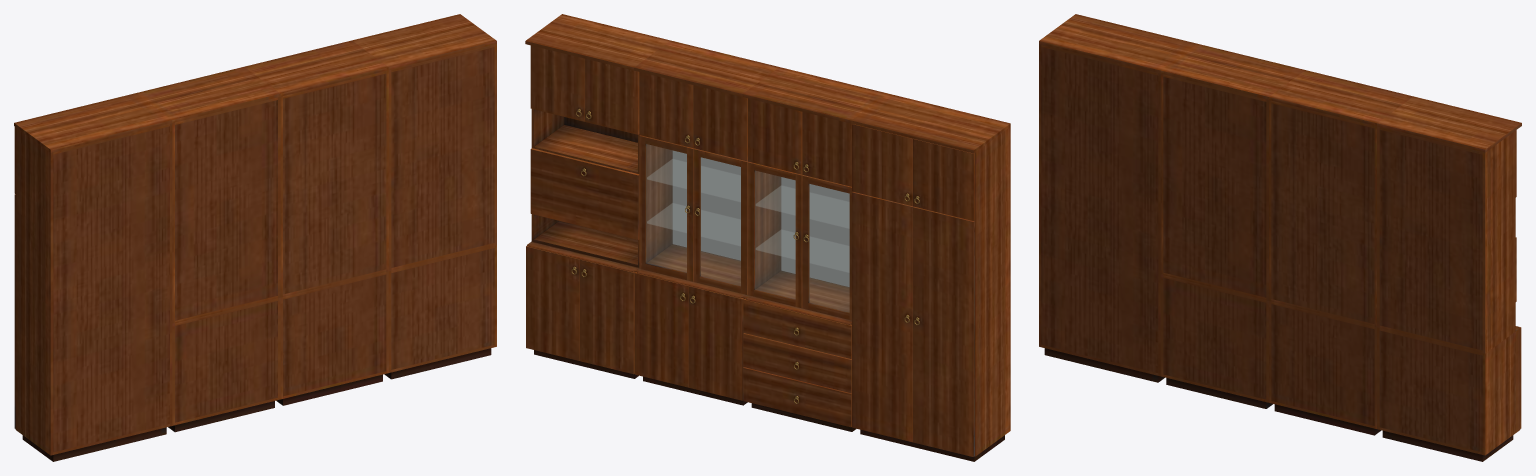
The model's file is stenka_amber_lod1_web.glb.
3 views of the same model, side by side, from view 1: azimuth 30°, elevation 25°; view 2: azimuth 150°, elevation 25°; view 3: azimuth 330°, elevation 25° (orthographic).
Parts seen in each view (by area): view 1: StenkaAmber_Body; view 2: StenkaAmber_Body, Door_4L0_R_Mesh, Door_4L0_L_Mesh, Flap_1U1_Mesh, Door_2L0_R_Mesh, Door_1L0_R_Mesh, Door_2L0_L_Mesh, Door_1L0_L_Mesh, Mirror_3U0, Mirror_2U0, Glass_Door_3U0_R, Glass_Door_2U0_R (+21 smaller); view 3: StenkaAmber_Body.
Boxes of the visible parts, bbox=[...] form: StenkaAmber_Body: bbox=[14, 14, 496, 461]; StenkaAmber_Body: bbox=[525, 14, 1010, 461]; Door_4L0_R_Mesh: bbox=[913, 206, 974, 456]; Door_4L0_L_Mesh: bbox=[852, 192, 913, 442]; Flap_1U1_Mesh: bbox=[530, 148, 639, 239]; Door_2L0_R_Mesh: bbox=[688, 286, 743, 400]; Door_1L0_R_Mesh: bbox=[580, 259, 635, 374]; Door_2L0_L_Mesh: bbox=[634, 272, 688, 387]; Door_1L0_L_Mesh: bbox=[526, 245, 579, 360]; Mirror_3U0: bbox=[781, 177, 849, 286]; Mirror_2U0: bbox=[672, 150, 740, 260]; Glass_Door_3U0_R: bbox=[809, 184, 849, 312]; Glass_Door_2U0_R: bbox=[700, 157, 740, 285]; StenkaAmber_Body: bbox=[1039, 14, 1521, 461].
Bounding box in the file's own units: 3.3 × 2.22 × 0.48.
4 materials, 2 textured.
